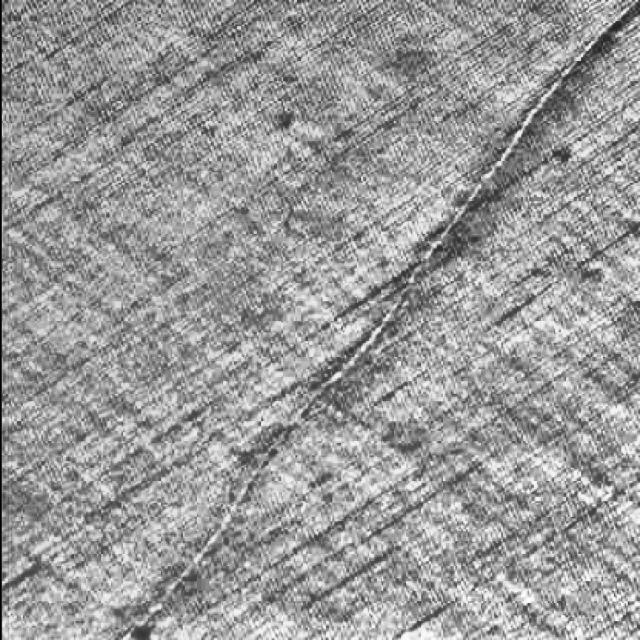objects: (107, 0, 639, 640)
